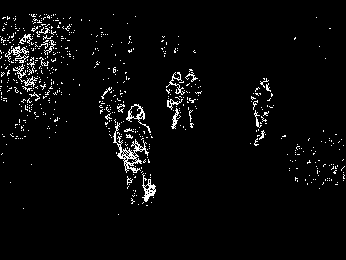person: (113, 103, 157, 205), (249, 77, 274, 148), (183, 69, 201, 129), (165, 70, 182, 129)
